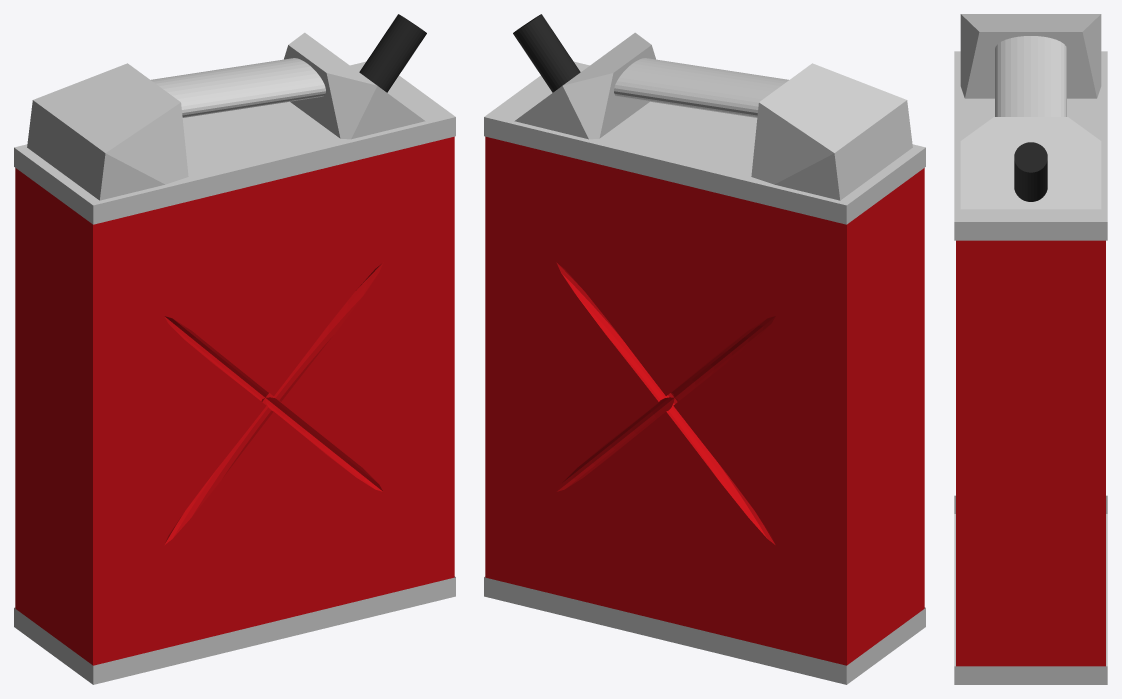
The model's file is fuel3.dae.
3 views of the same model, side by side, from view 1: azimuth 30°, elevation 25°; view 2: azimuth 150°, elevation 25°; view 3: azimuth 270°, elevation 25° (orthographic). The views are drawn at different scales.
Parts seen in each view (by area): view 1: Cube, Cube_004, Cube_001, Cube_003, Cube_002, Cylinder, Cylinder_001; view 2: Cube, Cube_004, Cube_001, Cube_003, Cube_002, Cylinder, Cylinder_001; view 3: Cube, Cube_002, Cube_004, Cube_001, Cylinder, Cube_003, Cylinder_001.
Part boxes in pixels (<box>): Cube: <box>15,136,454,665</box>; Cube_004: <box>14,61,455,224</box>; Cube_001: <box>27,63,188,200</box>; Cube_003: <box>14,576,455,684</box>; Cube_002: <box>284,32,425,139</box>; Cylinder: <box>151,58,325,117</box>; Cylinder_001: <box>359,14,426,92</box>; Cube: <box>485,136,924,665</box>; Cube_004: <box>484,61,925,224</box>; Cube_001: <box>751,63,912,200</box>; Cube_003: <box>484,576,925,684</box>; Cube_002: <box>514,32,655,139</box>; Cylinder: <box>614,58,788,117</box>; Cylinder_001: <box>513,14,580,92</box>; Cube: <box>956,240,1105,666</box>; Cube_002: <box>960,117,1101,209</box>; Cube_004: <box>954,51,1107,240</box>; Cube_001: <box>960,14,1101,98</box>; Cylinder: <box>995,36,1066,116</box>; Cube_003: <box>954,495,1107,684</box>; Cylinder_001: <box>1014,142,1047,201</box>.
Bounding box in the file's own units: 1.64 × 0.6083 × 2.35.
